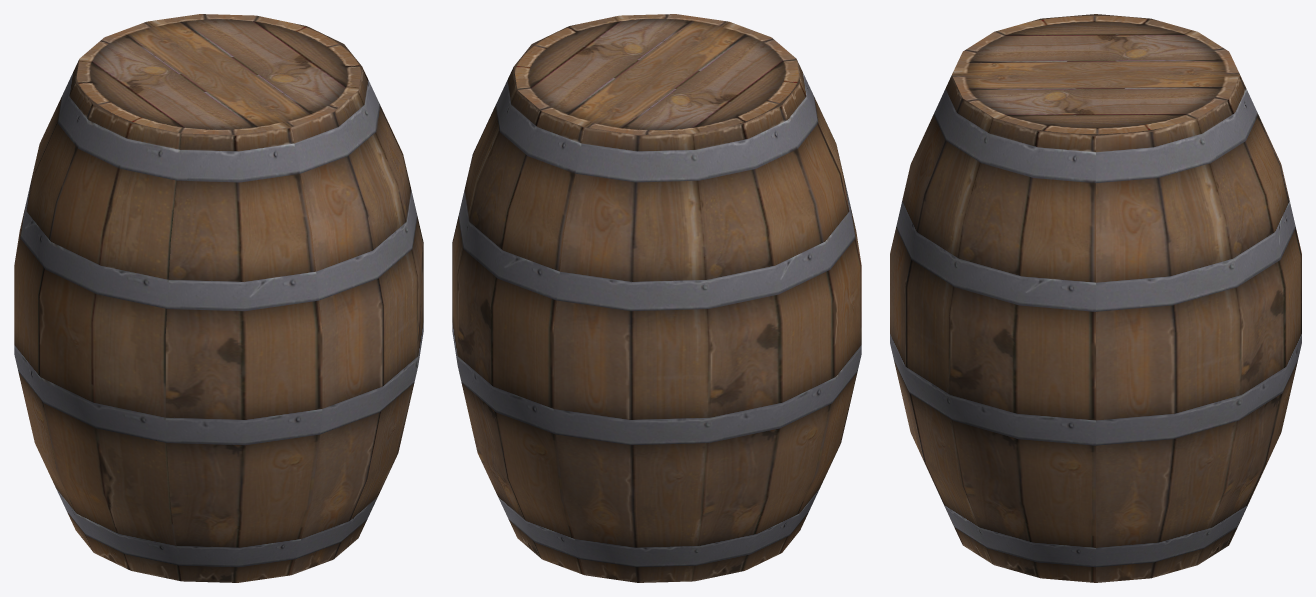
Rendered from Barrel.FBX.
3 renders of one model, left to right at view 1: azimuth 30°, elevation 25°; view 2: azimuth 150°, elevation 25°; view 3: azimuth 270°, elevation 25°, orthographic.
Visible parts, largest first — view 1: Barrel; view 2: Barrel; view 3: Barrel.
Boxes of the visible parts, x1,y1,x2,y2 form: Barrel: [14, 14, 423, 582]; Barrel: [452, 14, 861, 582]; Barrel: [890, 14, 1301, 582].
Bounding box in the file's own units: 46.44 × 55.61 × 46.44.
Materials: 1 (1 with a texture image).
